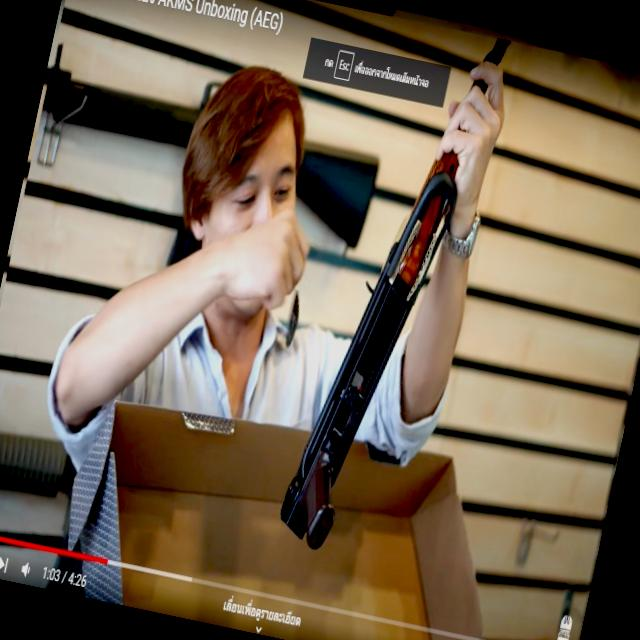ak: (280, 22, 530, 582)
